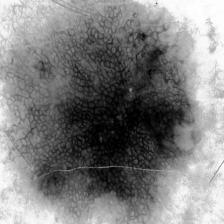Benign Marking or Mole: (0, 4, 201, 212)
